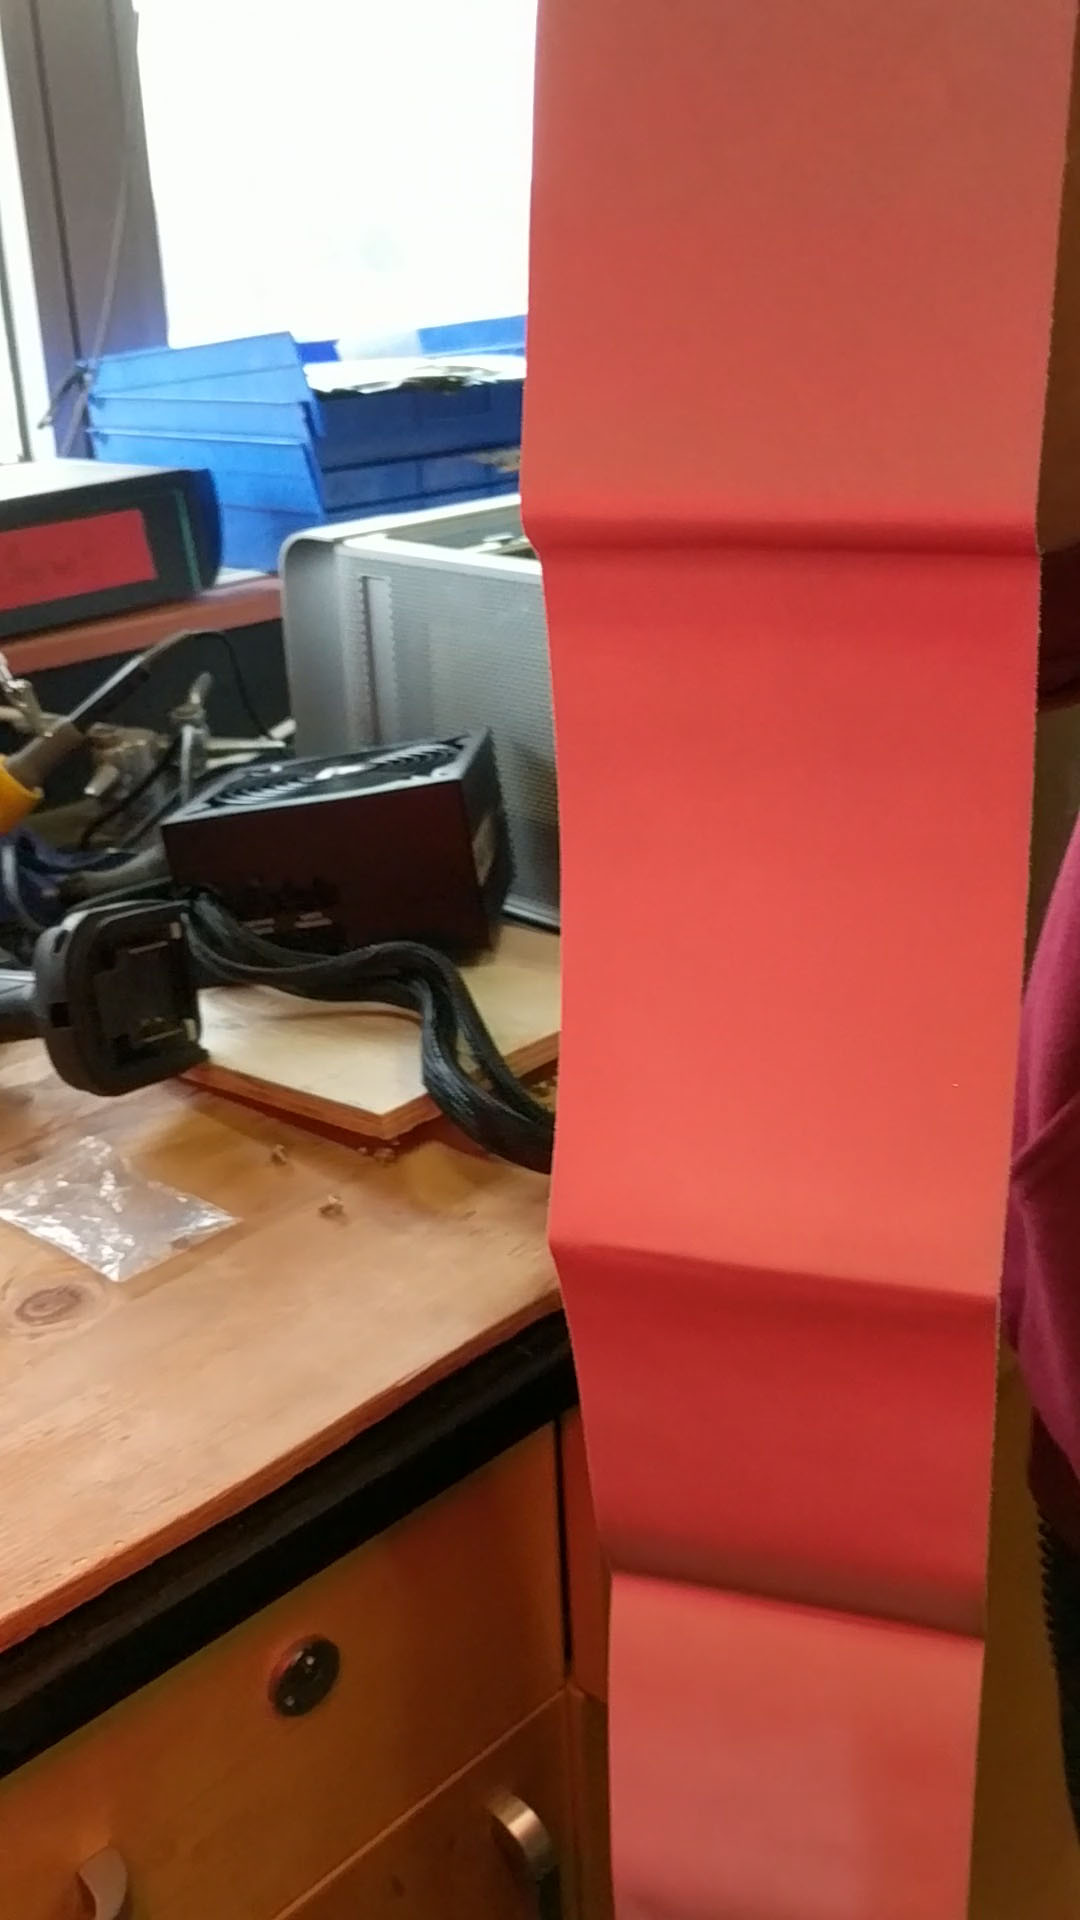gear: (541, 0, 1040, 1920)
